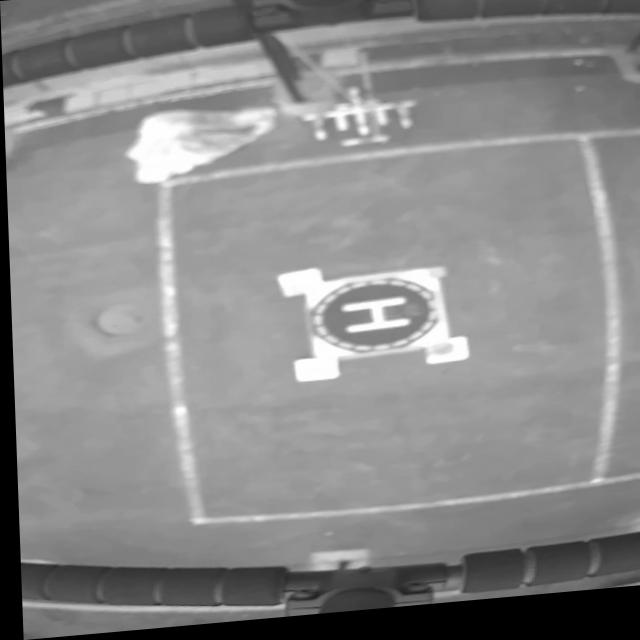Helipad: (339, 302, 408, 338)
